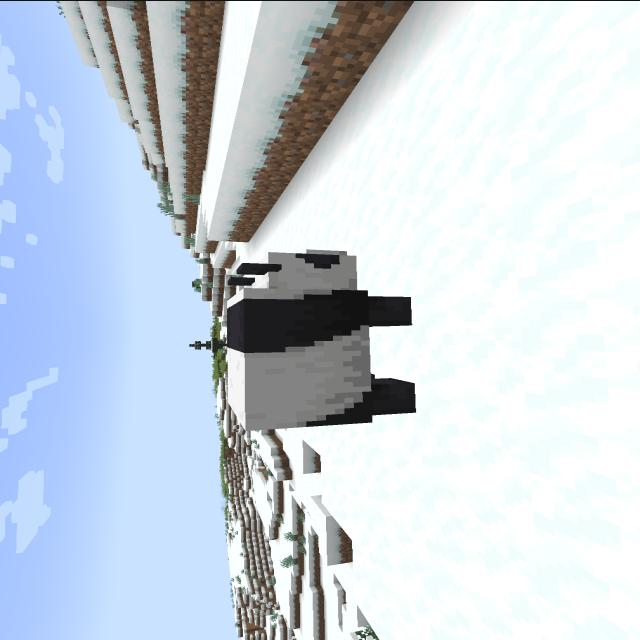Panda: (208, 241, 440, 437)
